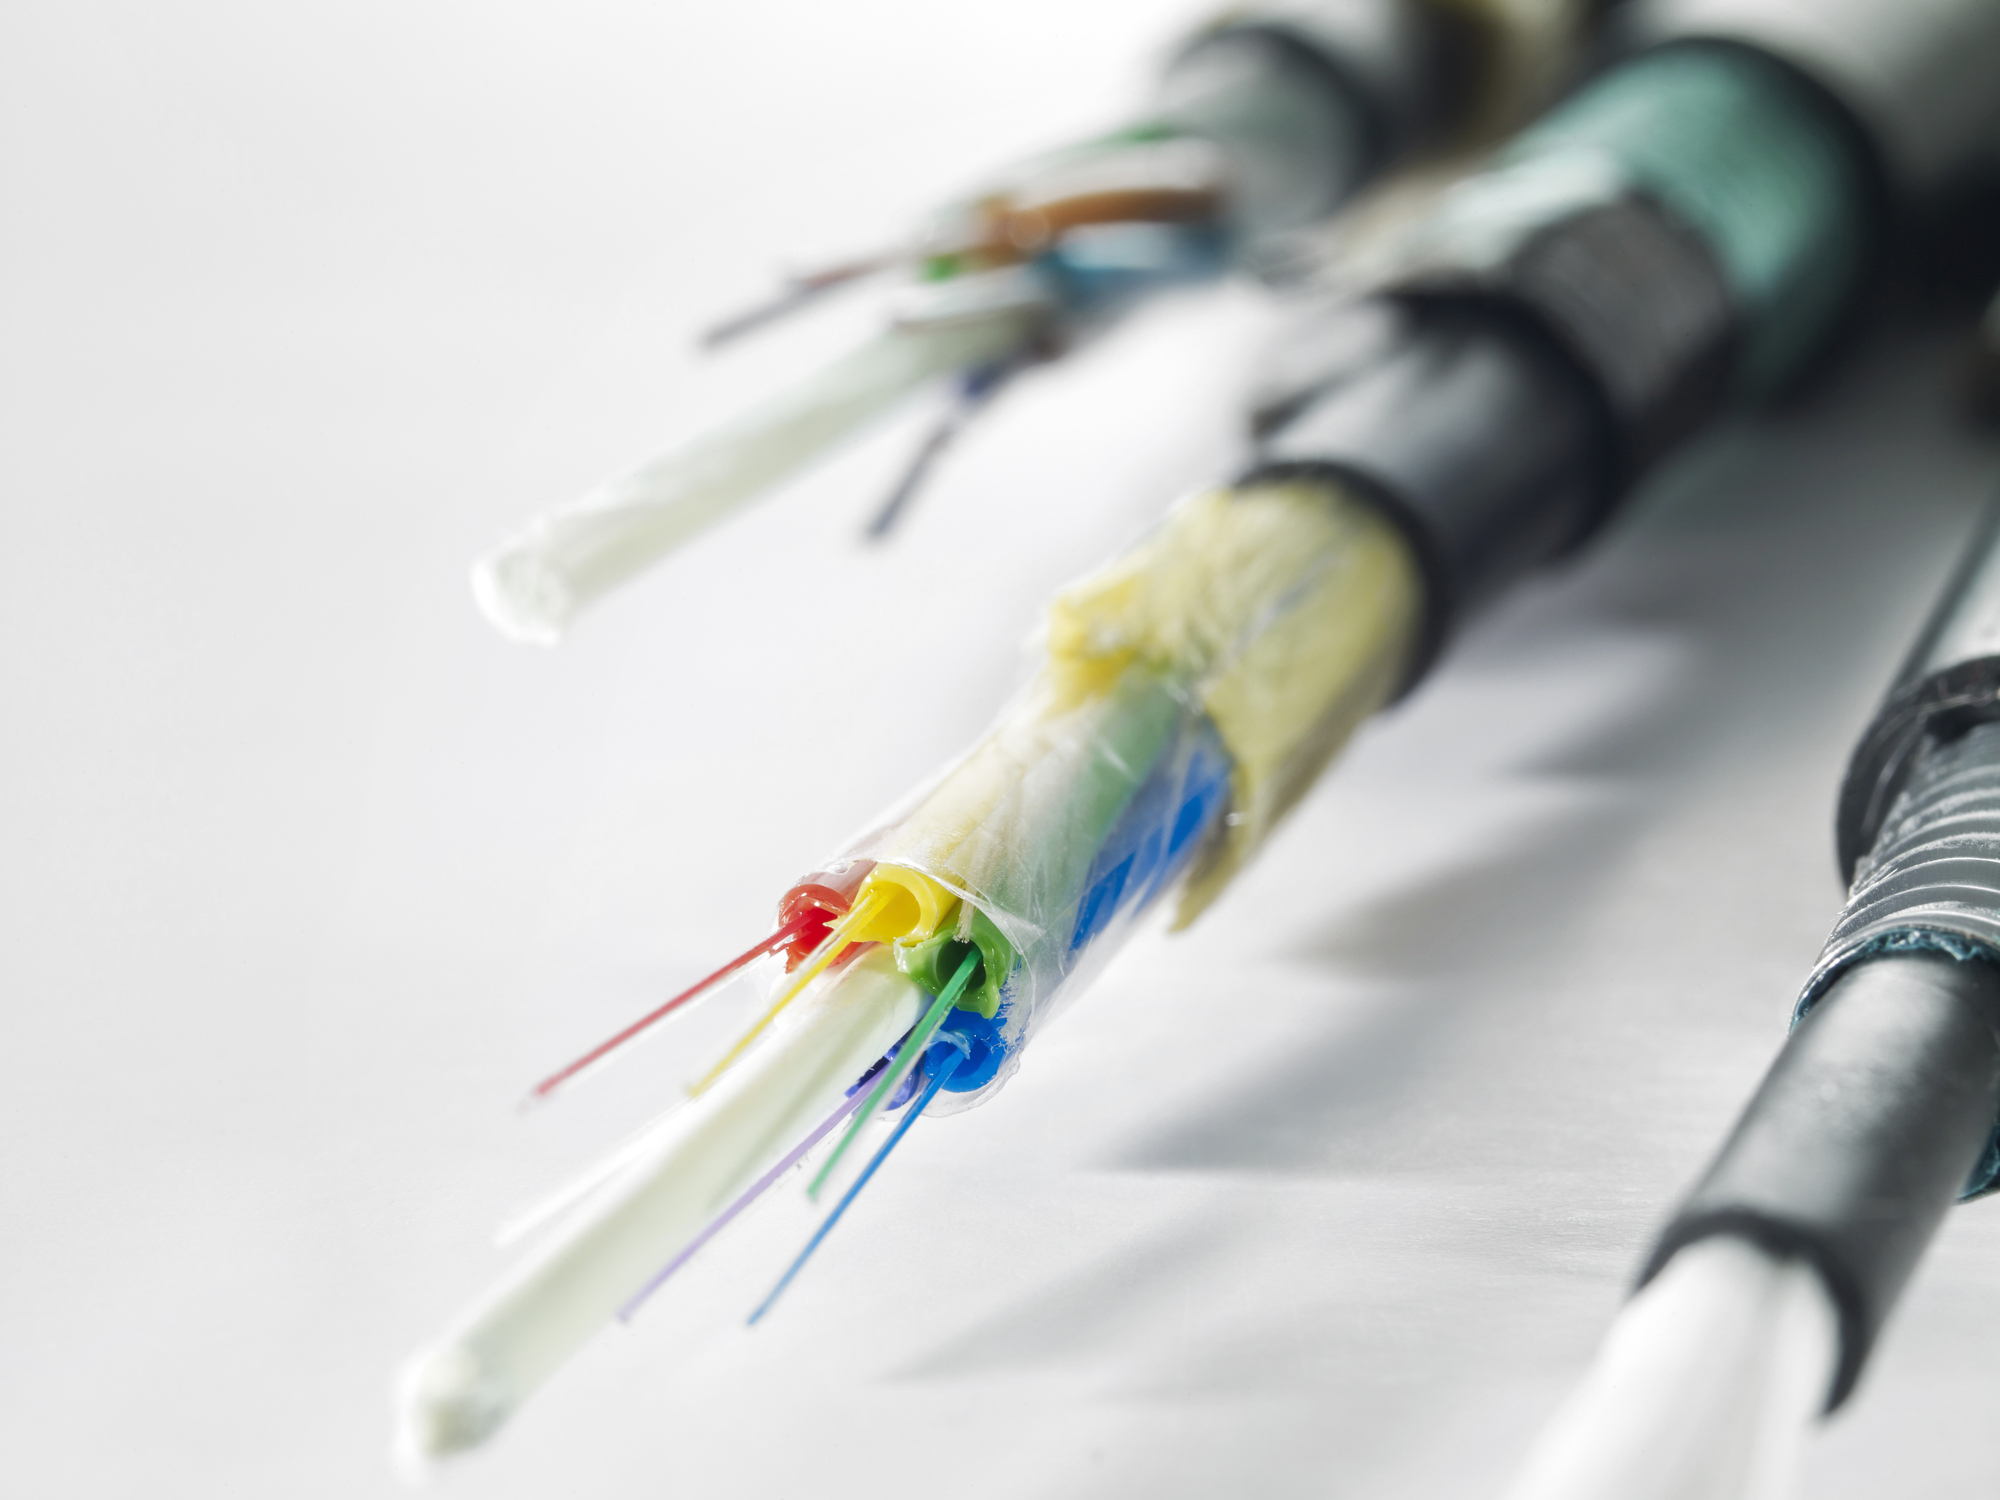Nonrec_Tangler: (387, 36, 1972, 1459)
